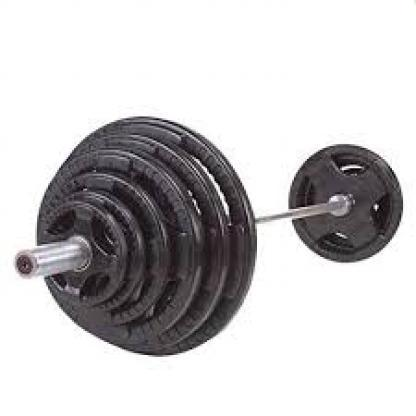Barbell: (34, 108, 266, 362), (289, 136, 406, 271)
